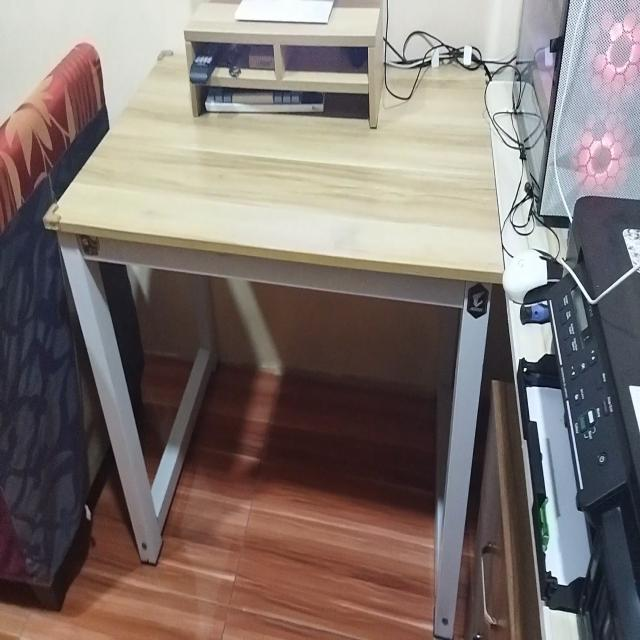table: (42, 40, 506, 640)
